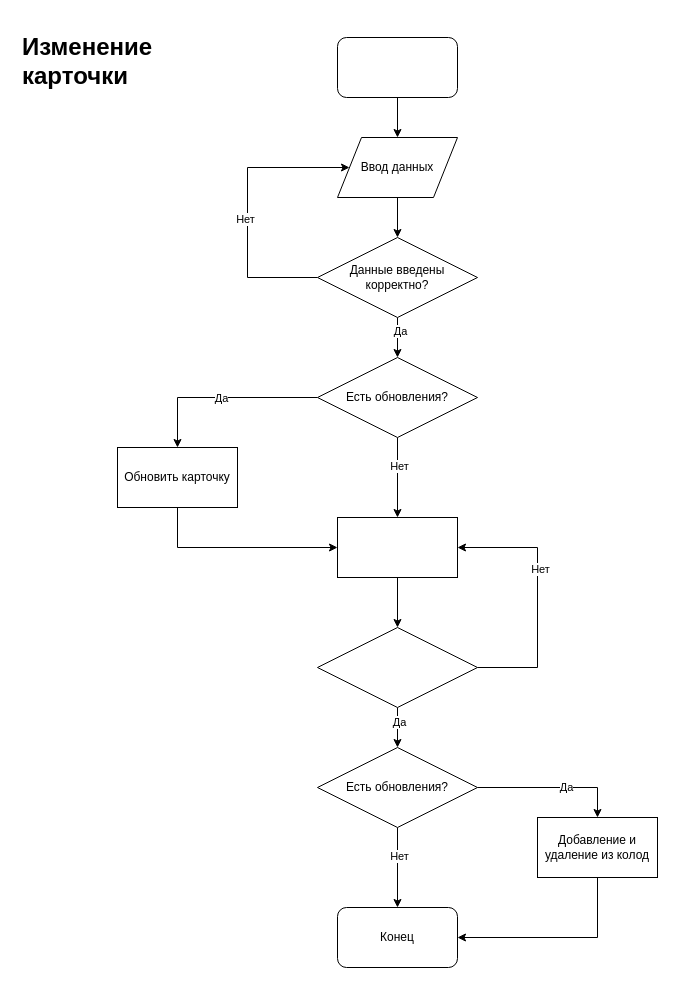
Image size: 675x985. Some labels were removed from this diagram. The centre of each missing label's shape, as x and y in pixels:
Выбор колод: the point at 397,547
Колод больше нуля?: the point at 397,667
Начало: the point at 397,67
